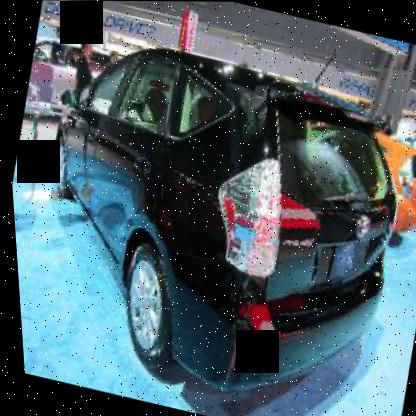not_emergency: (1, 22, 415, 415)
